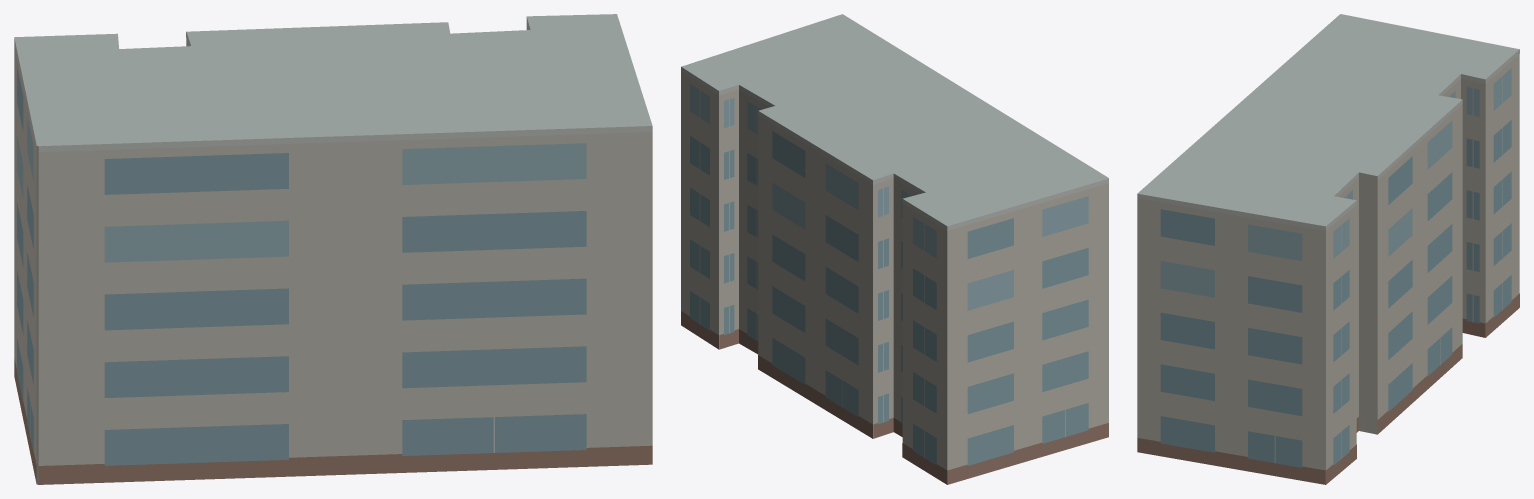
File: survey-upis-32957413.glb
The picture shows the model from 3 angles, left to right: view 1: azimuth 30°, elevation 25°; view 2: azimuth 150°, elevation 25°; view 3: azimuth 270°, elevation 25°; orthographic projection. The views are drawn at different scales.
Parts seen in each view (by area): view 1: survey-upis-32957413.tmp; view 2: survey-upis-32957413.tmp; view 3: survey-upis-32957413.tmp.
Part boxes in pixels (box(x1,y1,x2,y2)): survey-upis-32957413.tmp: box(14, 14, 652, 484); survey-upis-32957413.tmp: box(681, 14, 1108, 484); survey-upis-32957413.tmp: box(1137, 14, 1519, 484).
Bounding box in the file's own units: 24.15 × 13.7 × 18.38.
